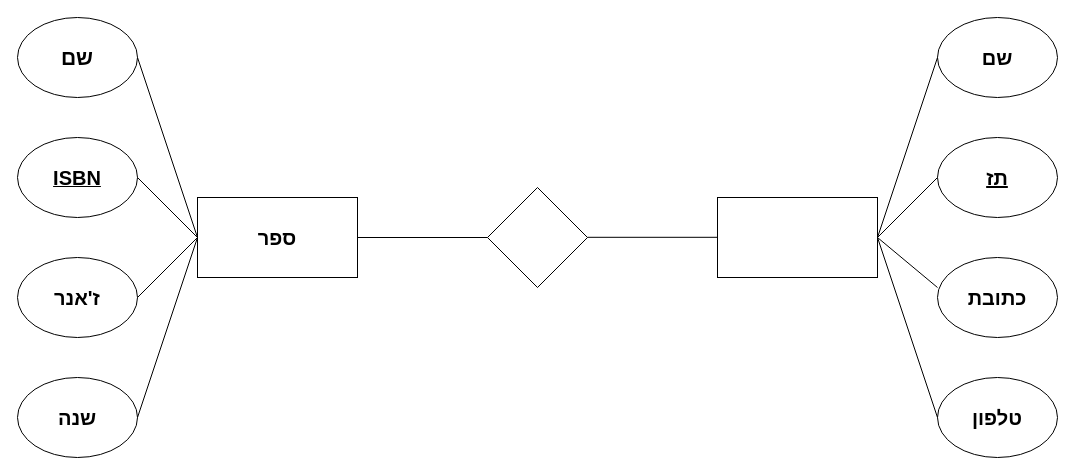
The diagram is 1075 pixels wide and 475 high, and some of its shapes have lost their labels. Here are the shapes that lost their labels. From the top down, the centre of each, then its label:
the point at 537,237: כתב את
the point at 797,237: מחבר
